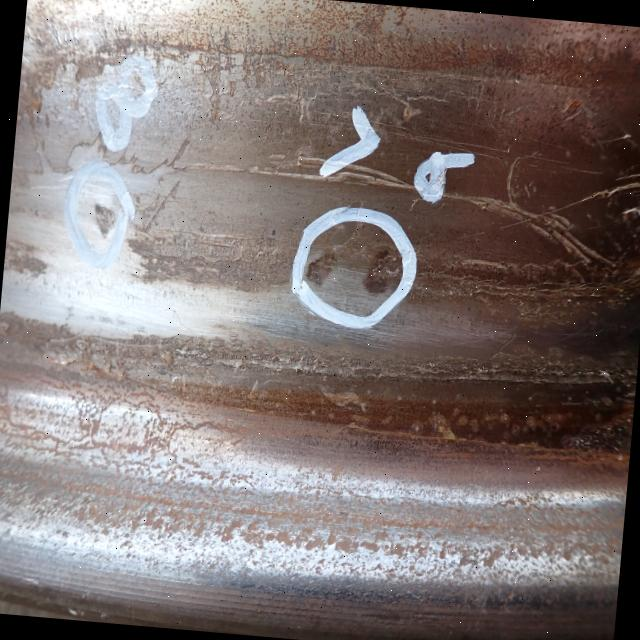Contact_Fatigue_Cracks: (227, 51, 532, 121), (251, 339, 591, 395), (6, 407, 230, 482), (438, 265, 640, 307)
